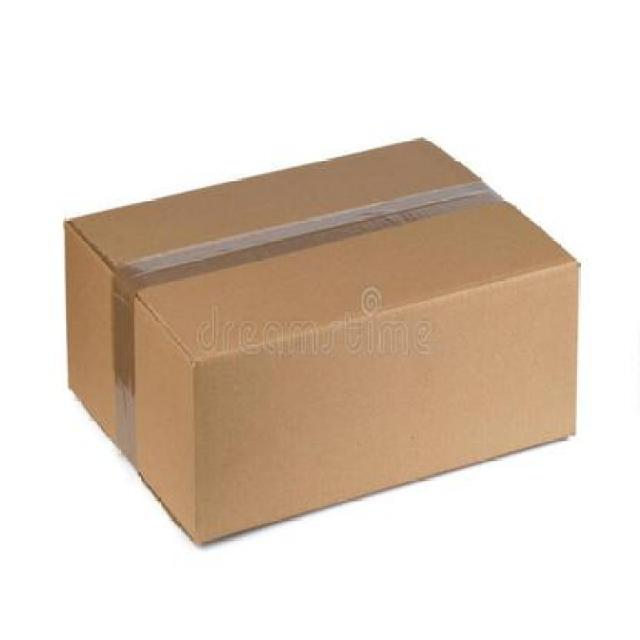normal: (54, 118, 612, 557)
